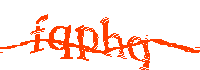f: (31, 13, 48, 54)
h: (100, 17, 126, 60)
p: (76, 24, 100, 60)
q: (49, 24, 73, 60), (128, 35, 152, 70)
